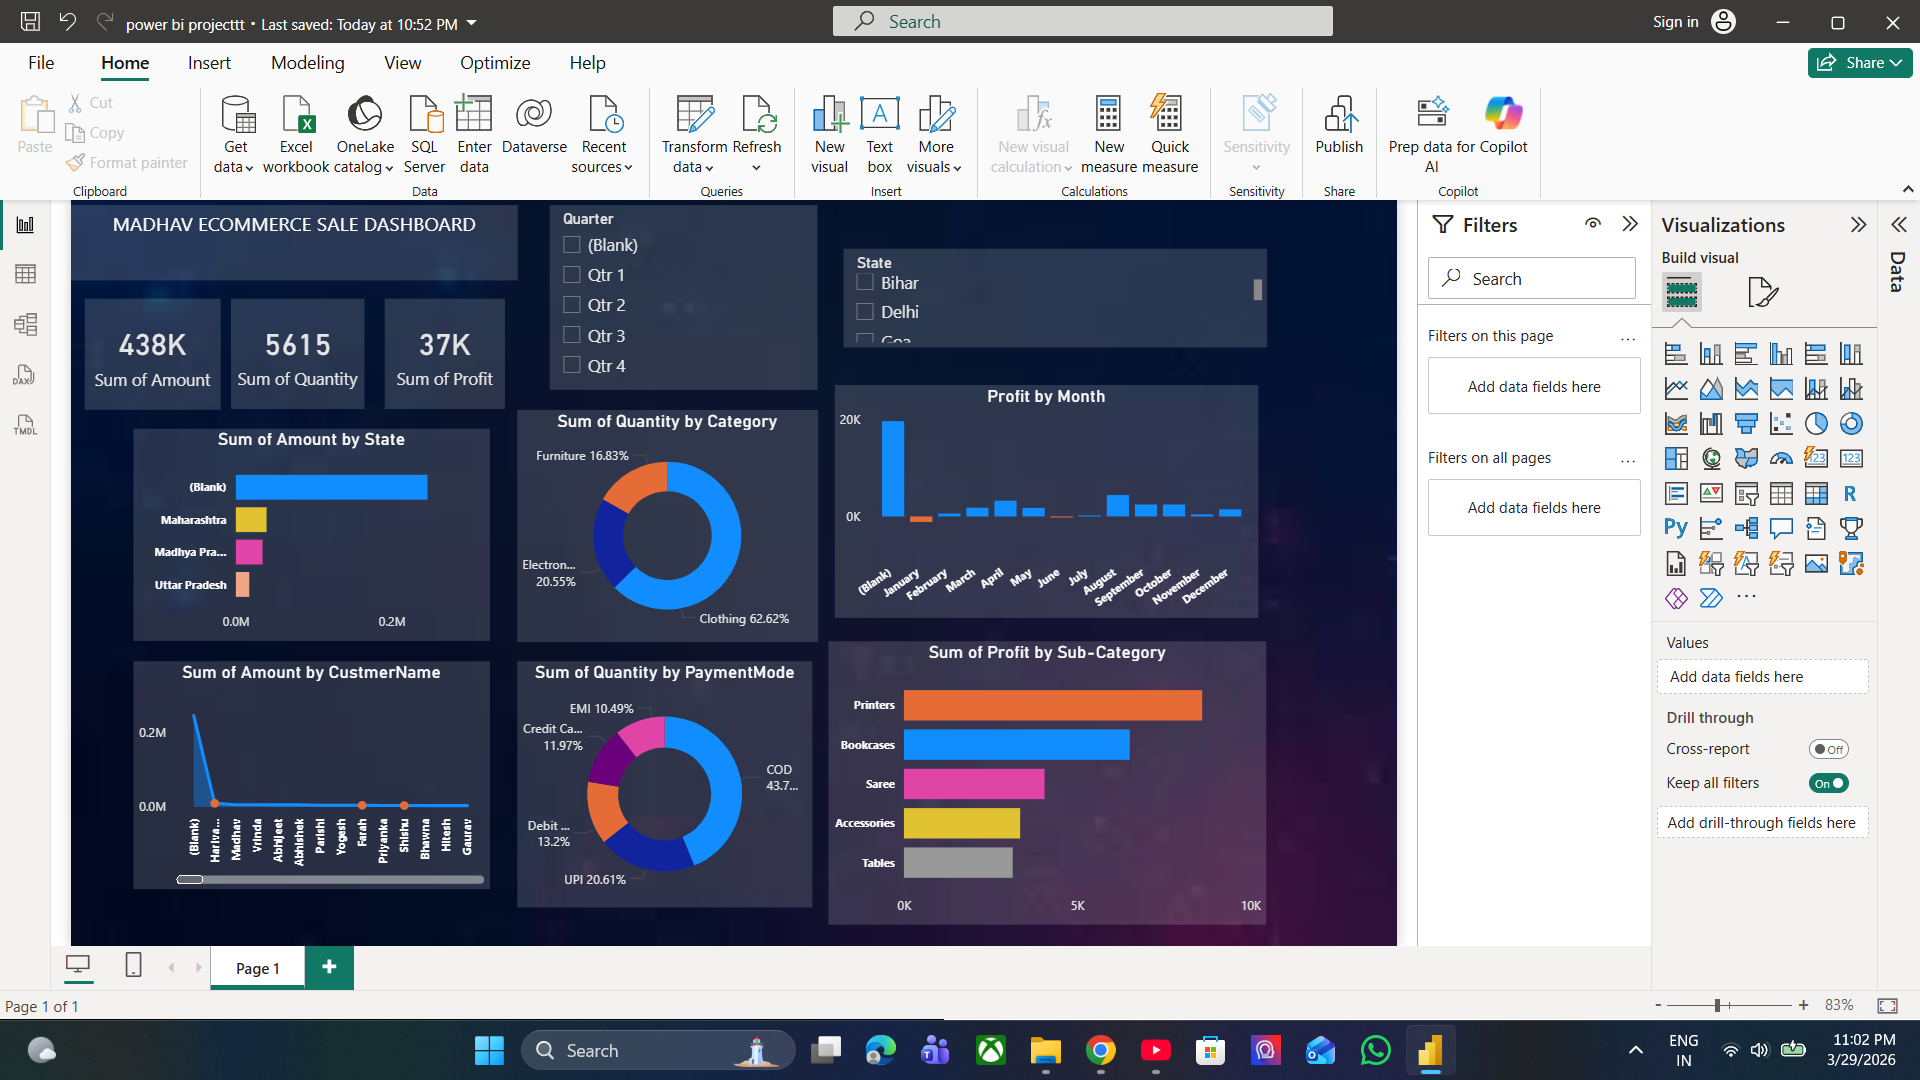

The page's visual inventory and layout, read from the dashboard file:
{"tool":"powerbi","page":{"name":"Page 1","canvas":[1280,720],"ordinal":0},"visuals":[{"type":"columnChart","title":" Profit by Month","fields":{"Y":["Sum(Details.Profit)"],"Category":["Orders.Order Date.Variation.Date Hierarchy.Month"]},"box":[737.5,178.8,408.8,225],"z":0},{"type":"clusteredBarChart","fields":{"Y":["Sum(Details.Profit)"],"Category":["Details.Sub-Category"]},"box":[731.2,426.2,422.5,273.8],"z":1000},{"type":"donutChart","fields":{"Y":["Sum(Details.Quantity)"],"Category":["Details.Category"]},"box":[431.2,202.5,290,223.8],"z":2000},{"type":"donutChart","fields":{"Y":["Sum(Details.Quantity)"],"Category":["Details.PaymentMode"]},"box":[431.2,445,285,237.5],"z":3000},{"type":"card","fields":{"Values":["Sum(Details.Amount)"]},"box":[13.8,95,131.2,107.5],"z":4000},{"type":"card","fields":{"Values":["Sum(Details.Quantity)"]},"box":[155,95,128.8,106.2],"z":5000},{"type":"card","fields":{"Values":["Sum(Details.Profit)"]},"box":[302.5,95,116.2,106.2],"z":6000},{"type":"clusteredBarChart","fields":{"Y":["Sum(Details.Amount)"],"Category":["Orders.State"]},"box":[60,221.2,343.8,205],"z":7000},{"type":"stackedAreaChart","fields":{"Category":["Orders.CustmerName"],"Y":["Sum(Details.Amount)"]},"box":[60,445,343.8,220],"z":8000},{"type":"slicer","fields":{"Values":["Orders.Order Date.Variation.Date Hierarchy.Quarter"]},"box":[462.5,5,258.8,178.8],"z":8001},{"type":"slicer","fields":{"Values":["Orders.State"]},"box":[745,47.5,408.8,95],"z":8002},{"type":"textbox","box":[0,5,431.2,72.5],"z":8003}]}

Visuals, with their boxes on the page's 1280x720 design canvas (x1, y1, x2, y2). These are canvas units, not pixel positions in the 1920x1080 screenshot, which may show the page scaled, cropped or inside an application window:
" Profit by Month" columnChart: (x1=738, y1=179, x2=1146, y2=404)
clusteredBarChart - Sum(Details.Profit) x Details.Sub-Category: (x1=731, y1=426, x2=1154, y2=700)
donutChart - Sum(Details.Quantity) x Details.Category: (x1=431, y1=202, x2=721, y2=426)
donutChart - Sum(Details.Quantity) x Details.PaymentMode: (x1=431, y1=445, x2=716, y2=682)
card - Sum(Details.Amount): (x1=14, y1=95, x2=145, y2=202)
card - Sum(Details.Quantity): (x1=155, y1=95, x2=284, y2=201)
card - Sum(Details.Profit): (x1=302, y1=95, x2=419, y2=201)
clusteredBarChart - Sum(Details.Amount) x Orders.State: (x1=60, y1=221, x2=404, y2=426)
stackedAreaChart - Orders.CustmerName x Sum(Details.Amount): (x1=60, y1=445, x2=404, y2=665)
slicer - Orders.Order Date.Variation.Date Hierarchy.Quarter: (x1=462, y1=5, x2=721, y2=184)
slicer - Orders.State: (x1=745, y1=48, x2=1154, y2=142)
textbox: (x1=0, y1=5, x2=431, y2=78)
